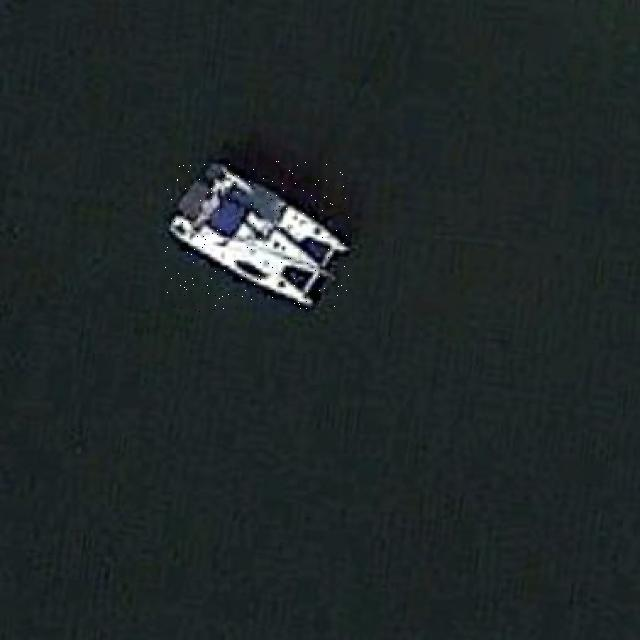boat: (164, 161, 350, 312)
